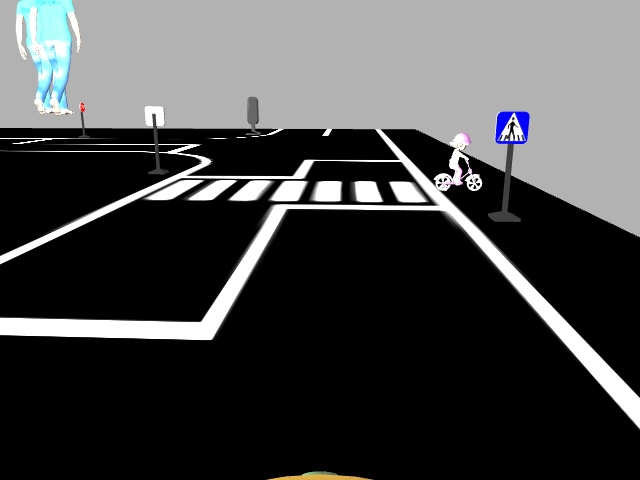Crosswalk: (489, 107, 533, 144)
Pedestrian: (433, 127, 486, 193)
